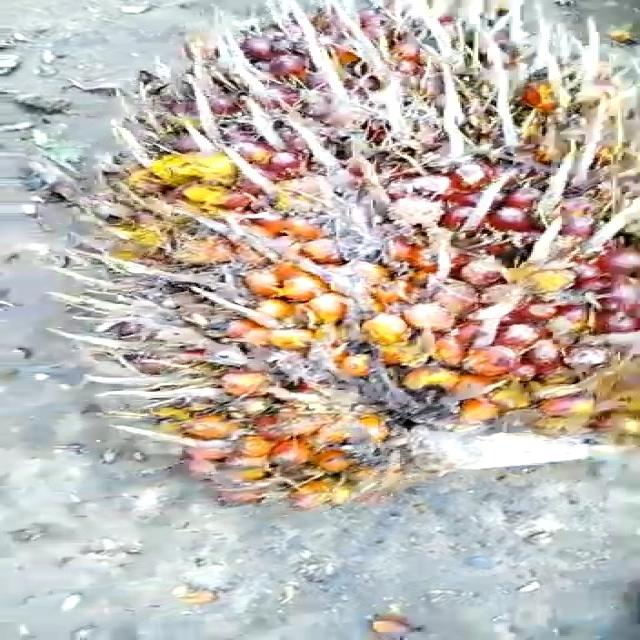palm oil: (41, 0, 640, 511)
